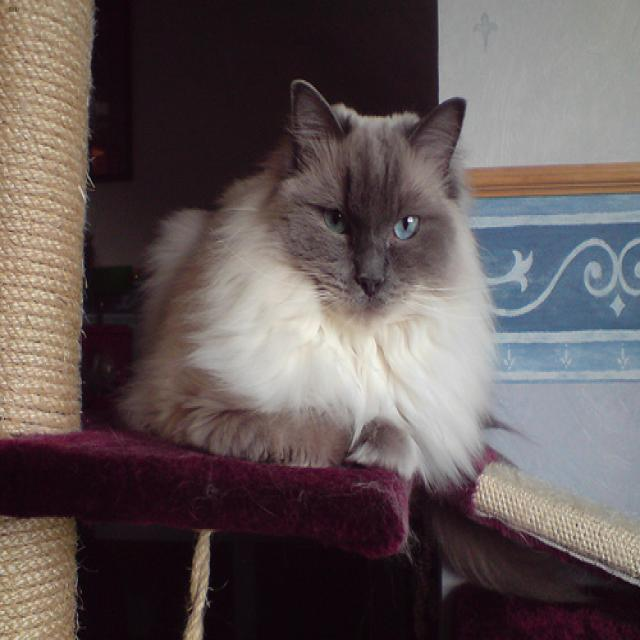cat: (290, 77, 463, 329)
